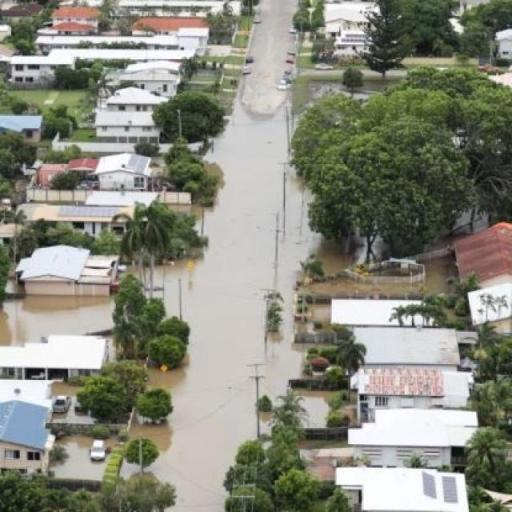flood: (132, 0, 458, 512), (0, 297, 114, 345), (301, 391, 330, 428)
house: (334, 460, 464, 508), (0, 381, 58, 480), (352, 367, 474, 414), (18, 242, 108, 304), (0, 334, 115, 382), (348, 324, 466, 368), (453, 220, 512, 283), (101, 84, 161, 143), (130, 12, 211, 48), (325, 4, 375, 56), (9, 51, 74, 88), (94, 154, 153, 191), (44, 6, 106, 36)
